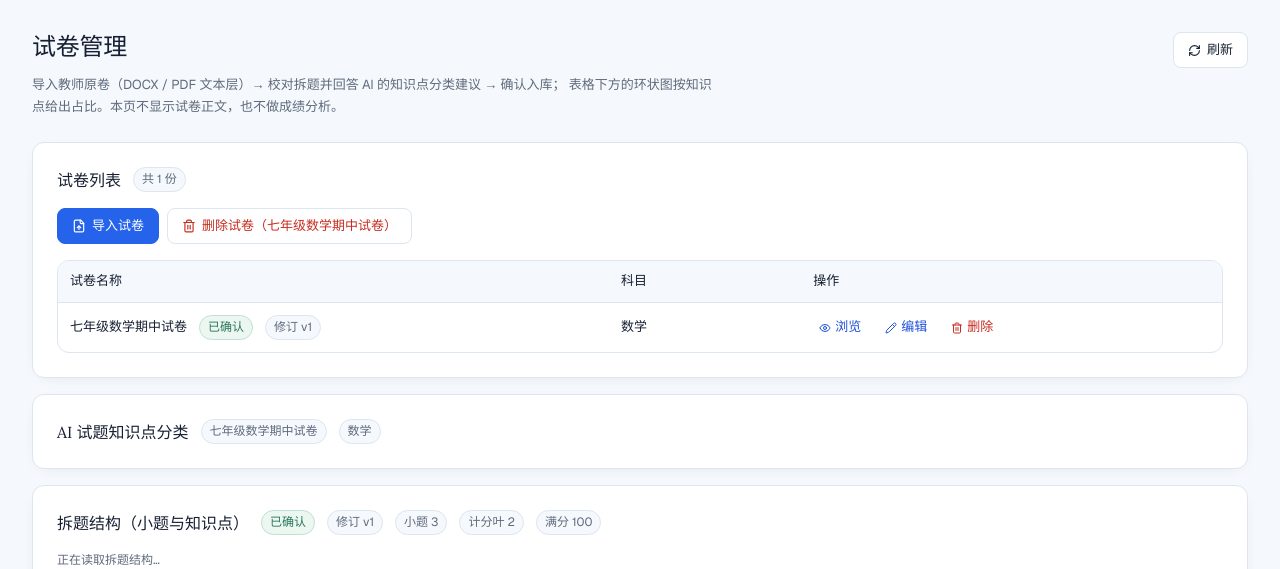
Test: 试卷管理页：物理删除受引用守卫（无归档兜底） › 删除成功后清空选中并重新读取列表
This screenshot has width=1280, height=569.
Check: the table is shown, box [58, 261, 1222, 352]
Click the button with test id "assessments-paper-delete-paper-1".
click(972, 328)  # box [945, 313, 999, 342]
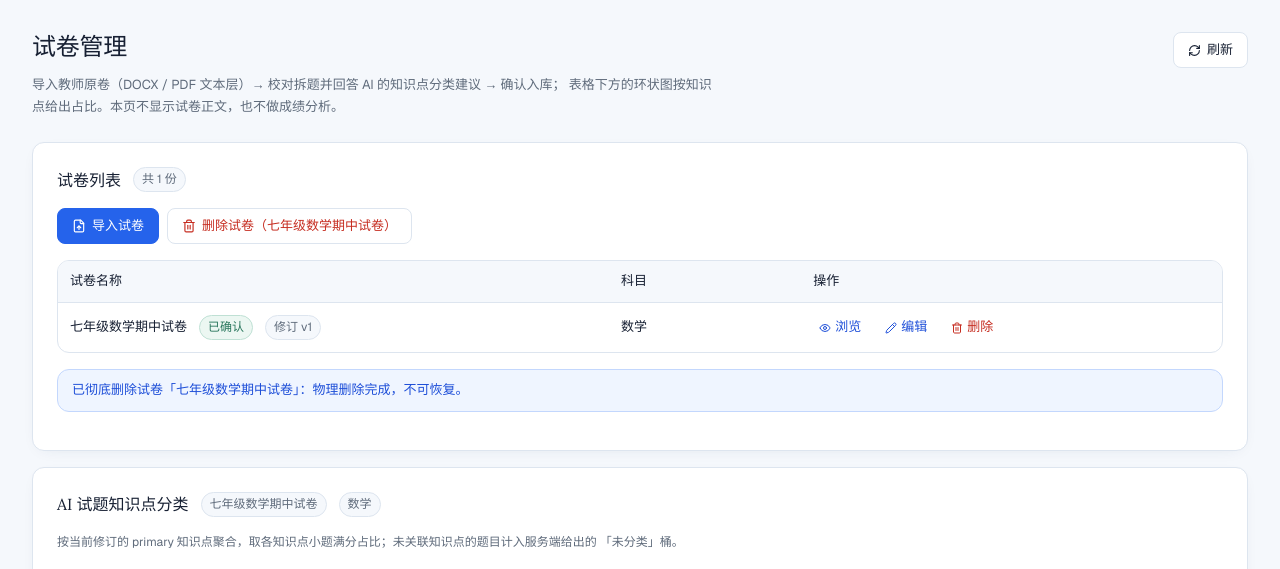
Check: the message with test id "assessments-paper-notice" shows "已彻底删除试卷", box [72, 381, 468, 398]
